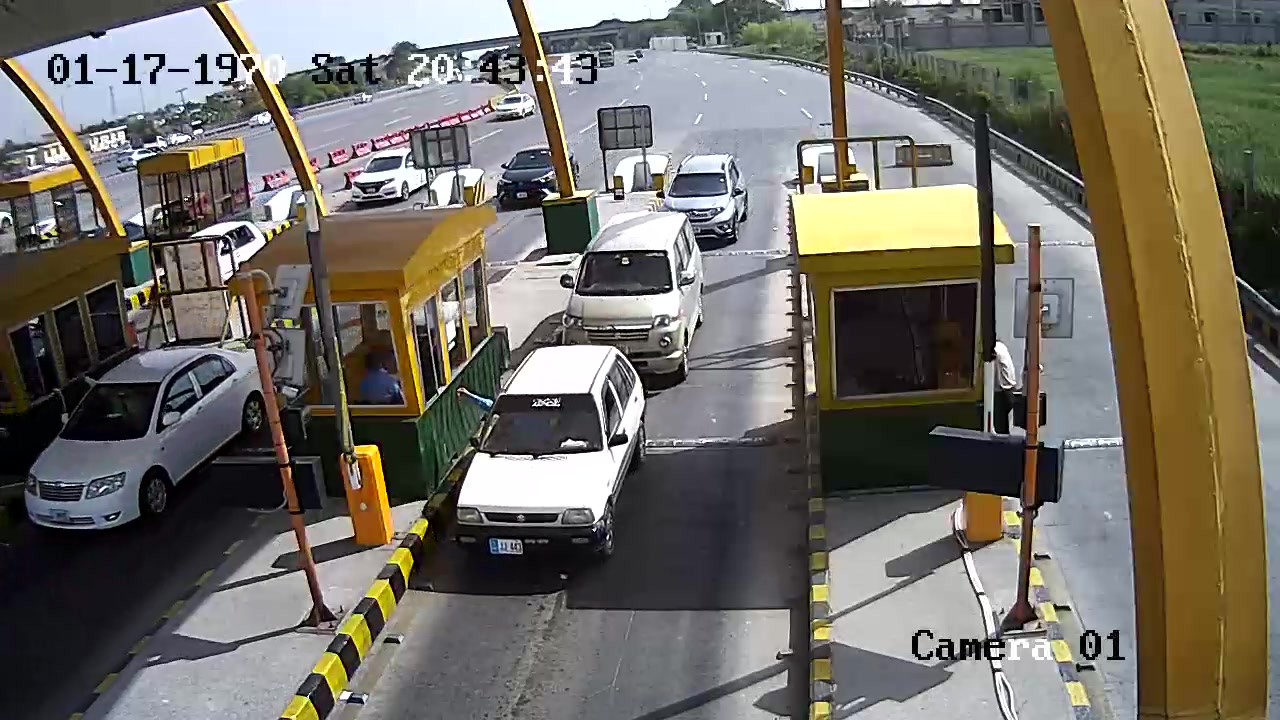F1: (450, 343, 652, 568), (563, 207, 711, 388)
